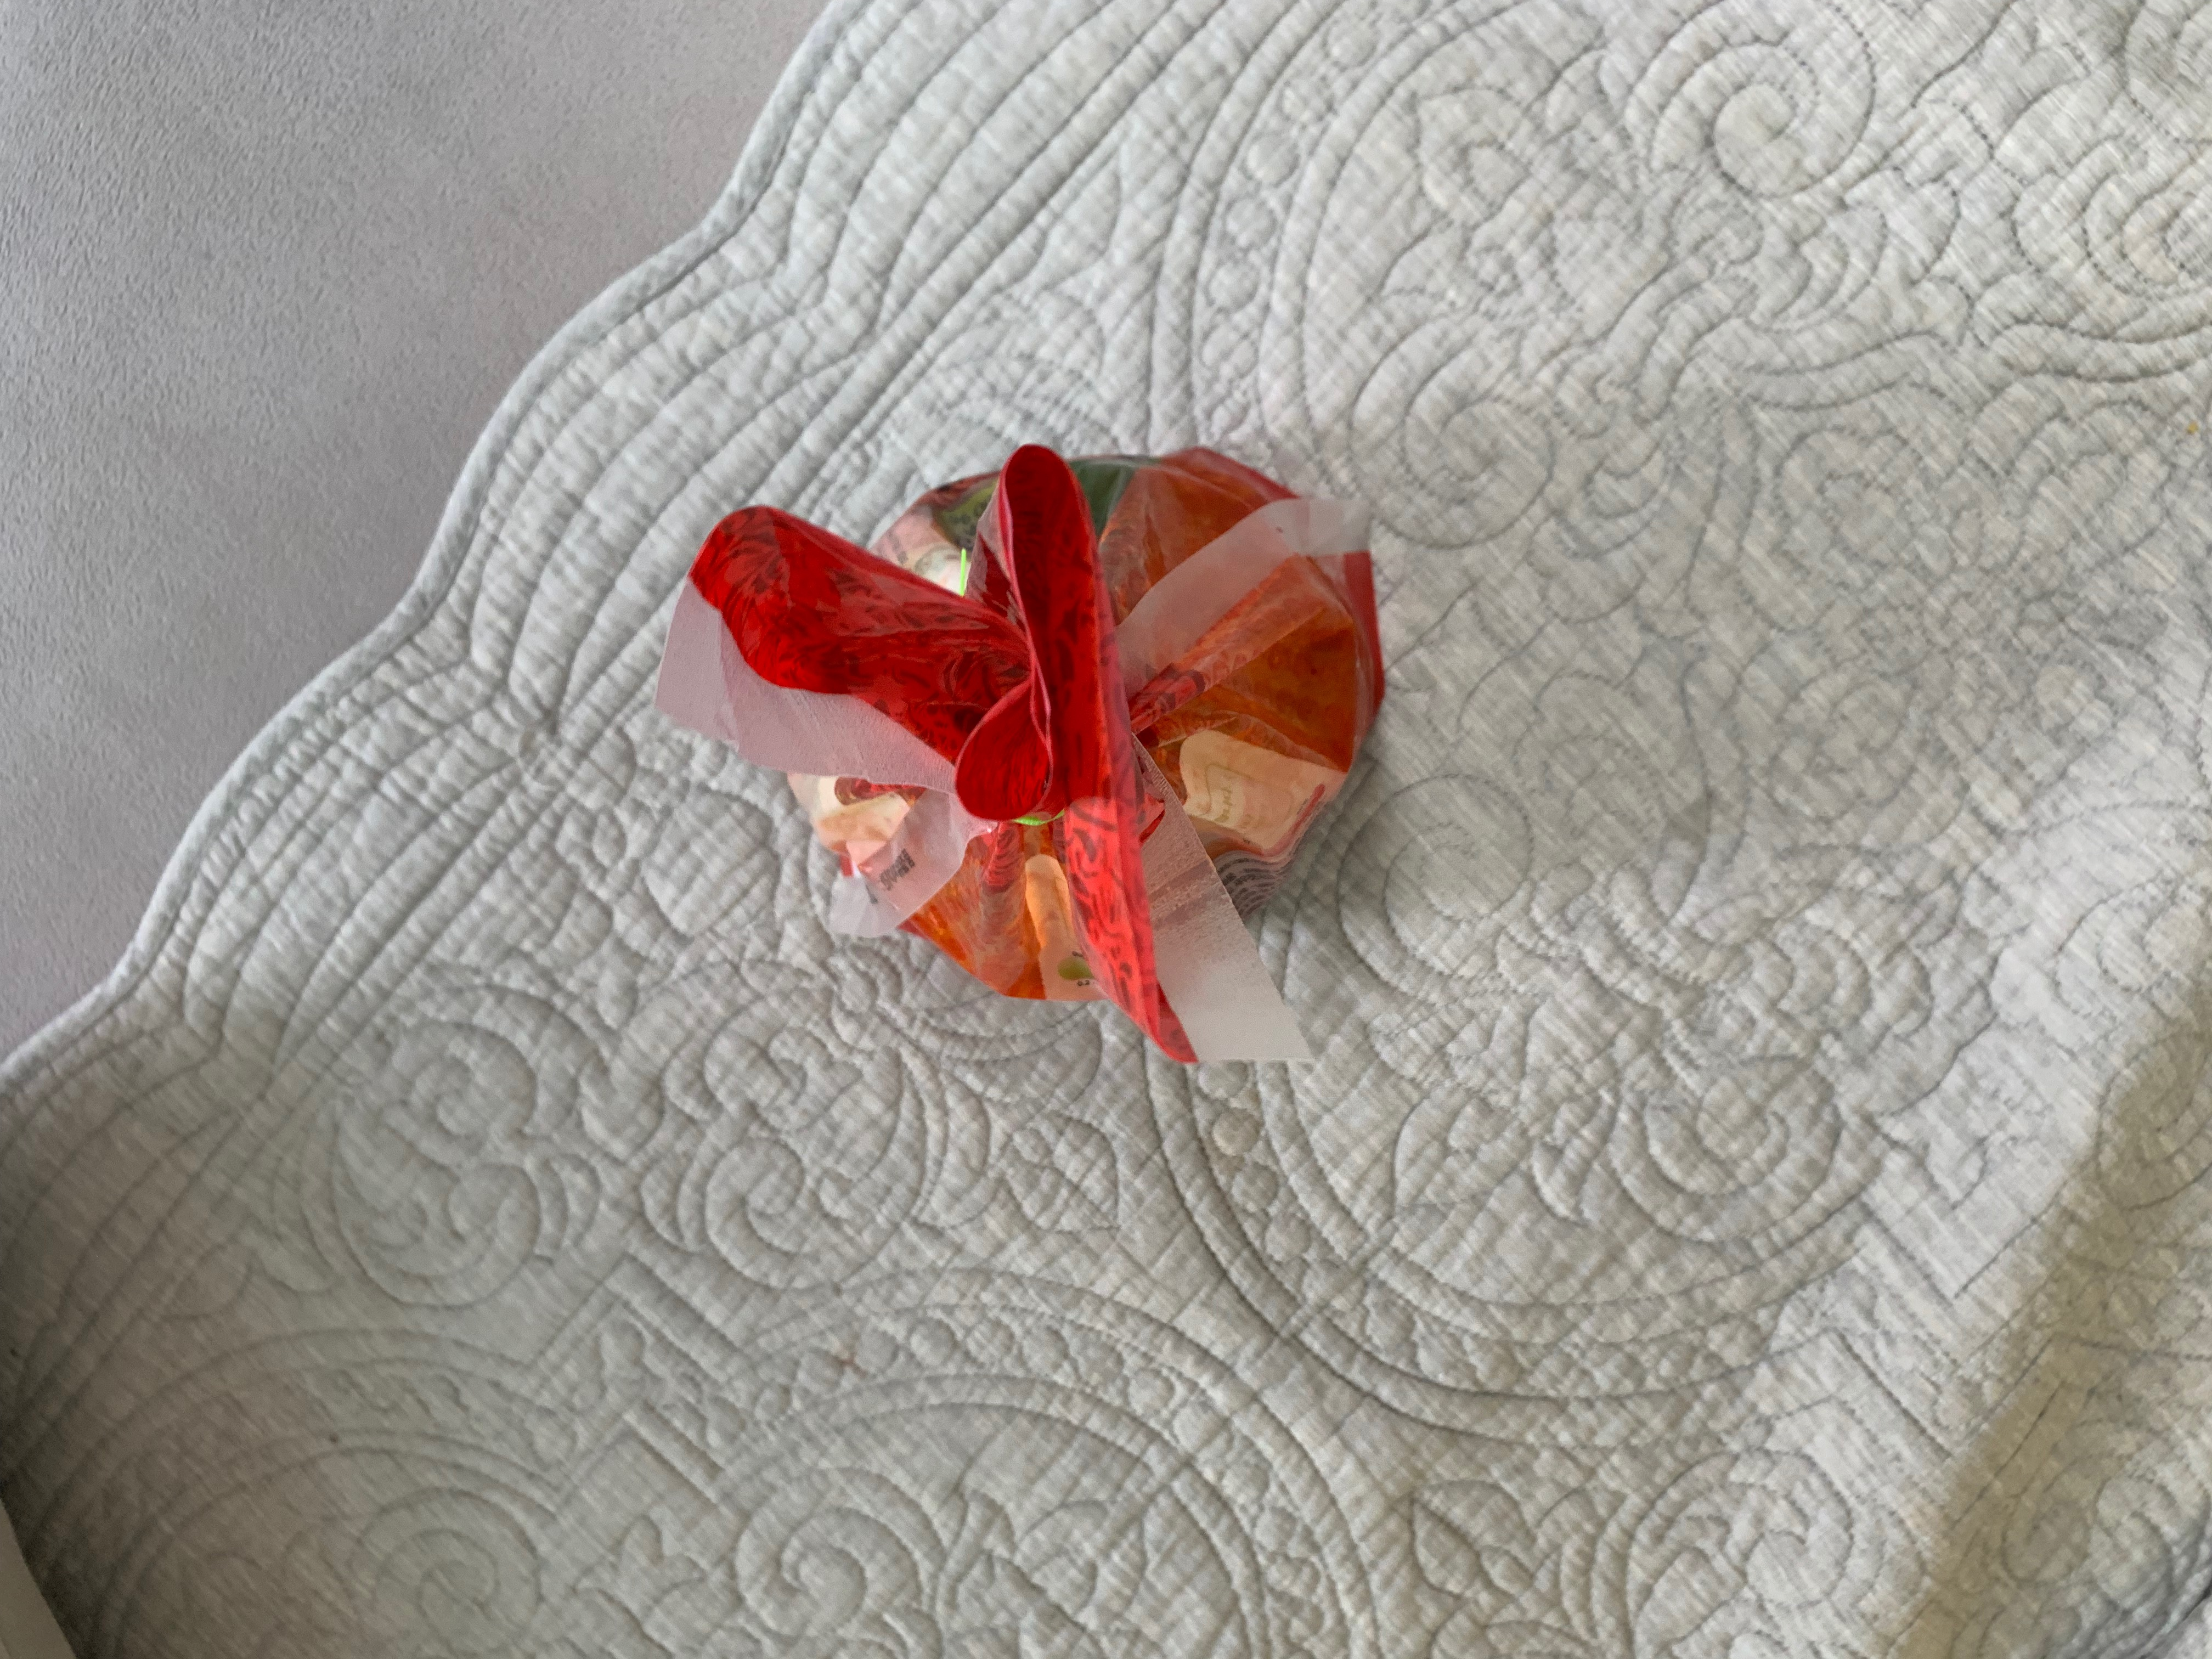kimchi: (686, 446, 1385, 993)
